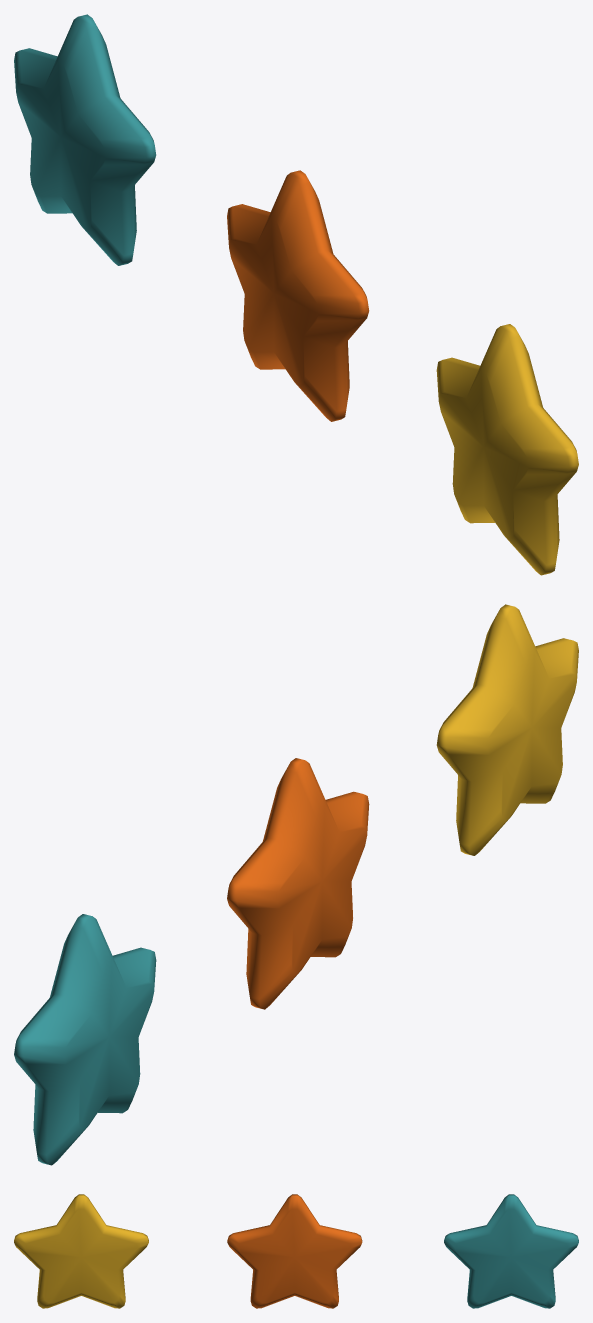
File: star_set.gltf
3 views of the same model, one above another, from view 1: azimuth 30°, elevation 25°; view 2: azimuth 150°, elevation 25°; view 3: azimuth 270°, elevation 25° (orthographic). The views are drawn at different scales.
Parts seen in each view (by area): view 1: Star3, Star2, Star; view 2: Star, Star2, Star3; view 3: Star, Star3, Star2.
Part boxes in pixels (x1,y1,x2,y2): Star3: (14, 14, 156, 265); Star2: (227, 170, 369, 421); Star: (436, 324, 578, 575); Star: (436, 604, 578, 855); Star2: (227, 758, 369, 1009); Star3: (14, 914, 156, 1165); Star: (14, 1194, 148, 1308); Star3: (444, 1194, 578, 1308); Star2: (227, 1194, 362, 1308).
Bounding box in the file's own units: 0.1189 × 0.6456 × 2.96.
1 material, 1 textured.
